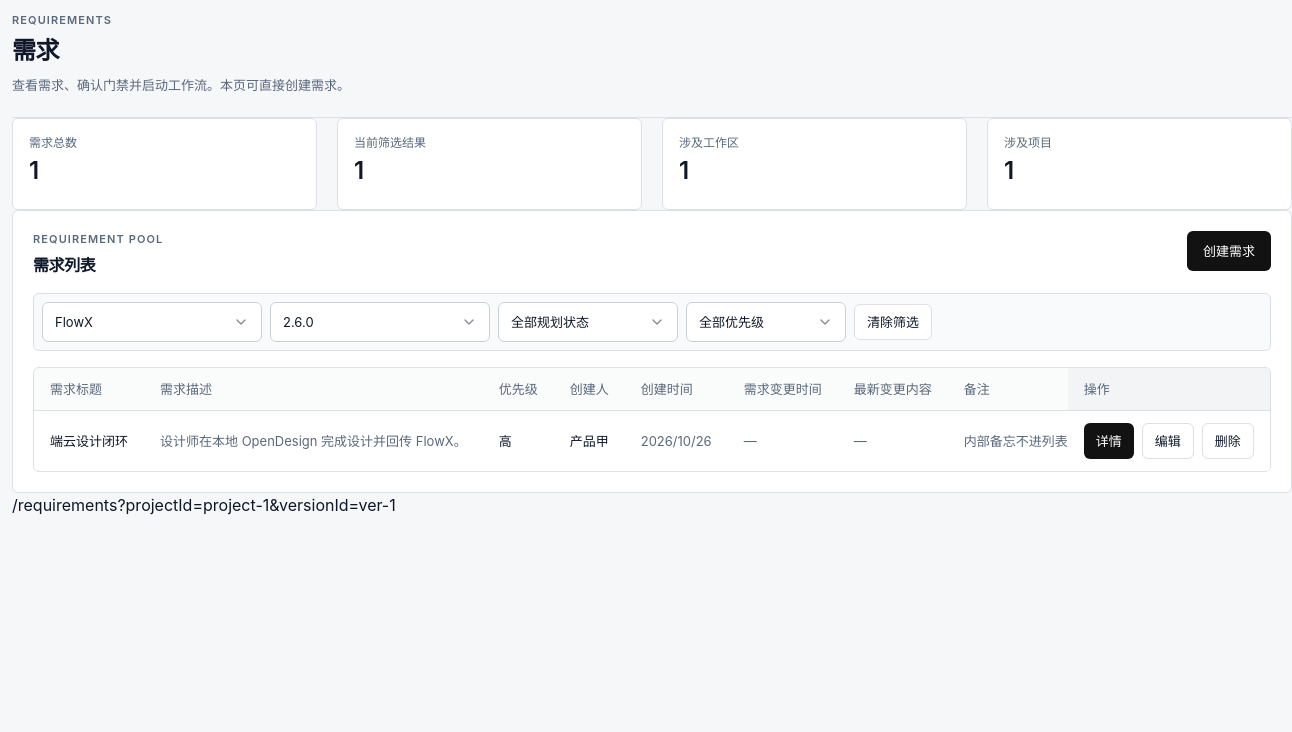
Test: RequirementsPage › 切换项目时清除不再适用的版本筛选
This screenshot has width=1292, height=732.
Press ArrowDown in the dropdown named "按项目筛选", box [42,302,262,342]
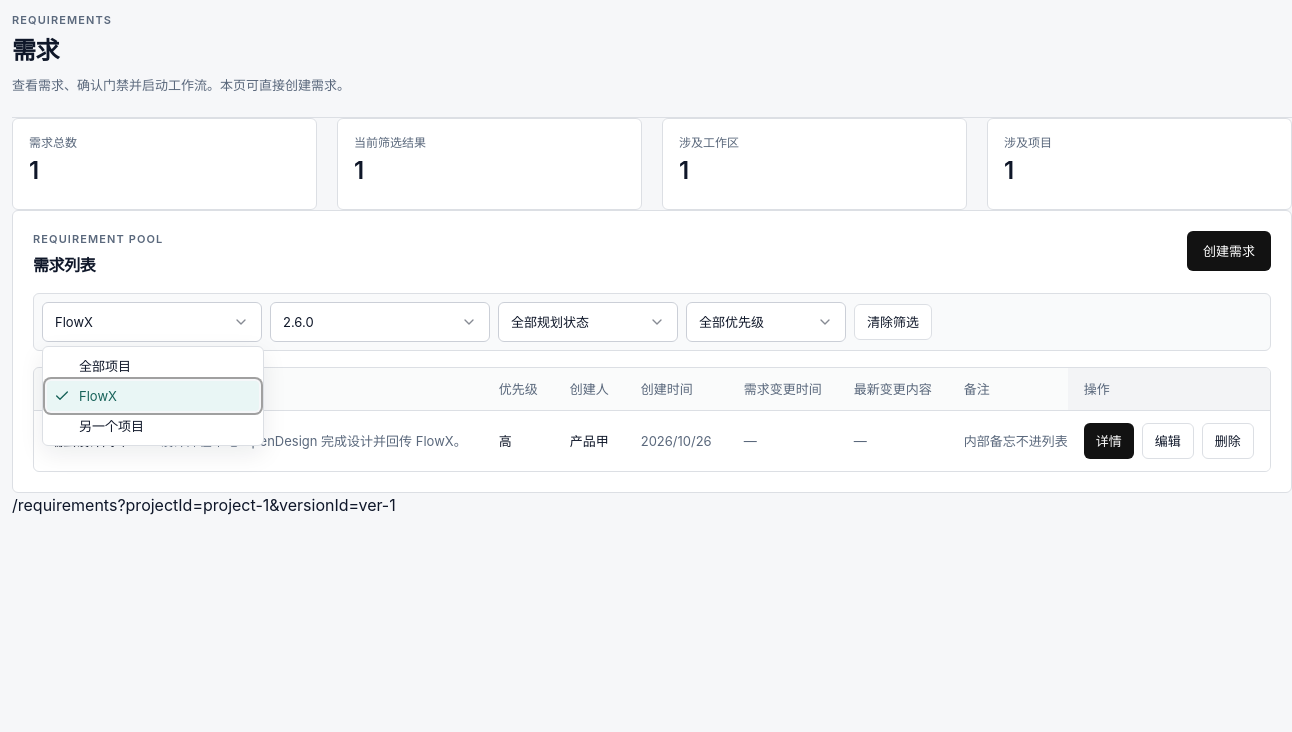
Click the option "另一个项目": coordinates (112, 426) [79,418,144,434]
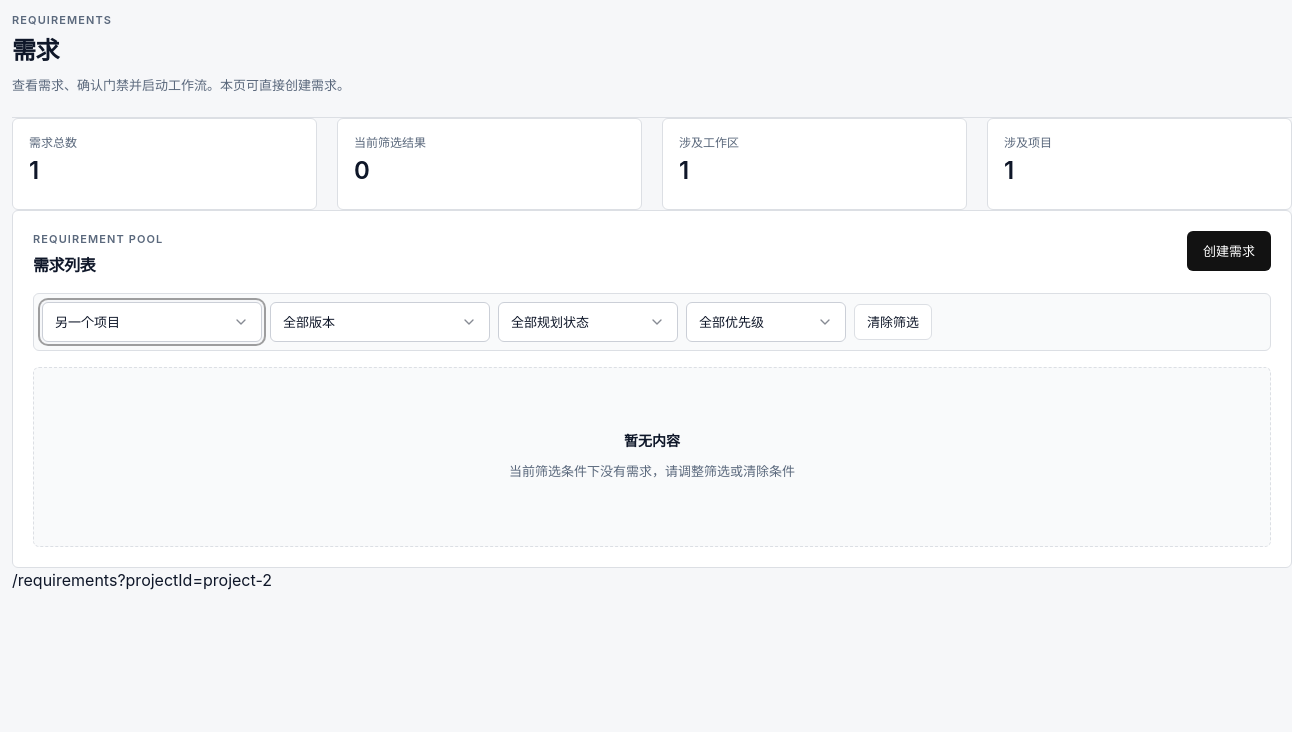
Expected: the text "/requirements?projectId=project-2" is shown, [12,570,272,590]
